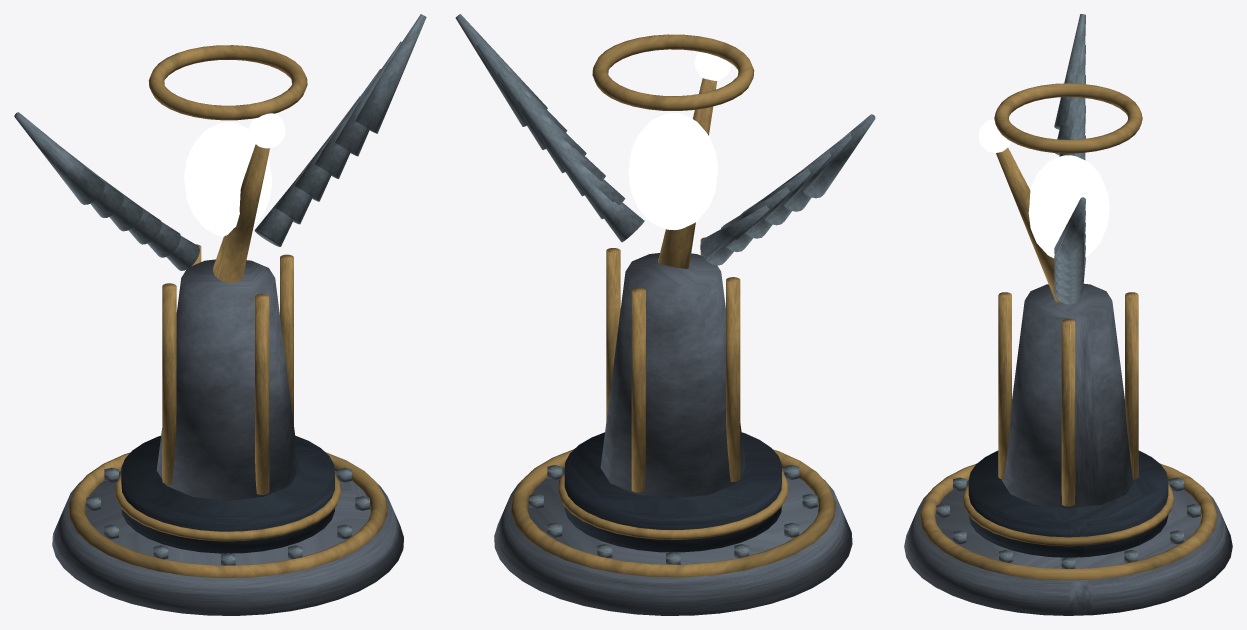
Rendered from tower_skyguard_1.glb.
3 renders of one model, left to right at view 1: azimuth 30°, elevation 25°; view 2: azimuth 150°, elevation 25°; view 3: azimuth 270°, elevation 25°, orthographic. The views are drawn at different scales.
Visible parts, largest first — view 1: Weathered_granite, Antique_brass, Weathered_blue_steel.001, Forged_black_iron, Antique_brass.001, Lantern_flame, Weathered_blue_steel; view 2: Weathered_granite, Antique_brass, Forged_black_iron, Weathered_blue_steel.001, Lantern_flame, Antique_brass.001, Weathered_blue_steel; view 3: Weathered_granite, Antique_brass, Forged_black_iron, Antique_brass.001, Lantern_flame, Weathered_blue_steel.001, Weathered_blue_steel.
Part boxes in pixels (x1,y1,x2,y2): Weathered_granite: (52, 259, 403, 615); Antique_brass: (68, 244, 387, 577); Weathered_blue_steel.001: (14, 14, 426, 270); Forged_black_iron: (121, 435, 334, 553); Antique_brass.001: (148, 45, 307, 282); Lantern_flame: (184, 113, 285, 236); Weathered_blue_steel: (86, 467, 369, 565); Weathered_granite: (494, 253, 852, 615); Antique_brass: (511, 237, 835, 577); Forged_black_iron: (564, 432, 781, 552); Weathered_blue_steel.001: (455, 14, 875, 265); Lantern_flame: (628, 51, 731, 230); Antique_brass.001: (592, 34, 754, 268); Weathered_blue_steel: (529, 465, 817, 564); Weathered_granite: (904, 283, 1232, 615); Antique_brass: (919, 292, 1217, 580); Forged_black_iron: (968, 450, 1168, 557); Antique_brass.001: (994, 83, 1142, 302); Lantern_flame: (978, 119, 1109, 258); Weathered_blue_steel.001: (1054, 14, 1085, 304); Weathered_blue_steel: (936, 477, 1200, 568).
Size of the model in its own units: 3.64 by 4 by 2.7.
5 materials, 4 textured.
